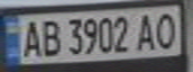0: (96, 13, 115, 55)
2: (112, 12, 133, 53)
3: (63, 16, 84, 56)
9: (81, 15, 100, 55)
A: (133, 11, 160, 52), (18, 18, 45, 58)
B: (36, 17, 63, 57)
O: (151, 9, 181, 51)
